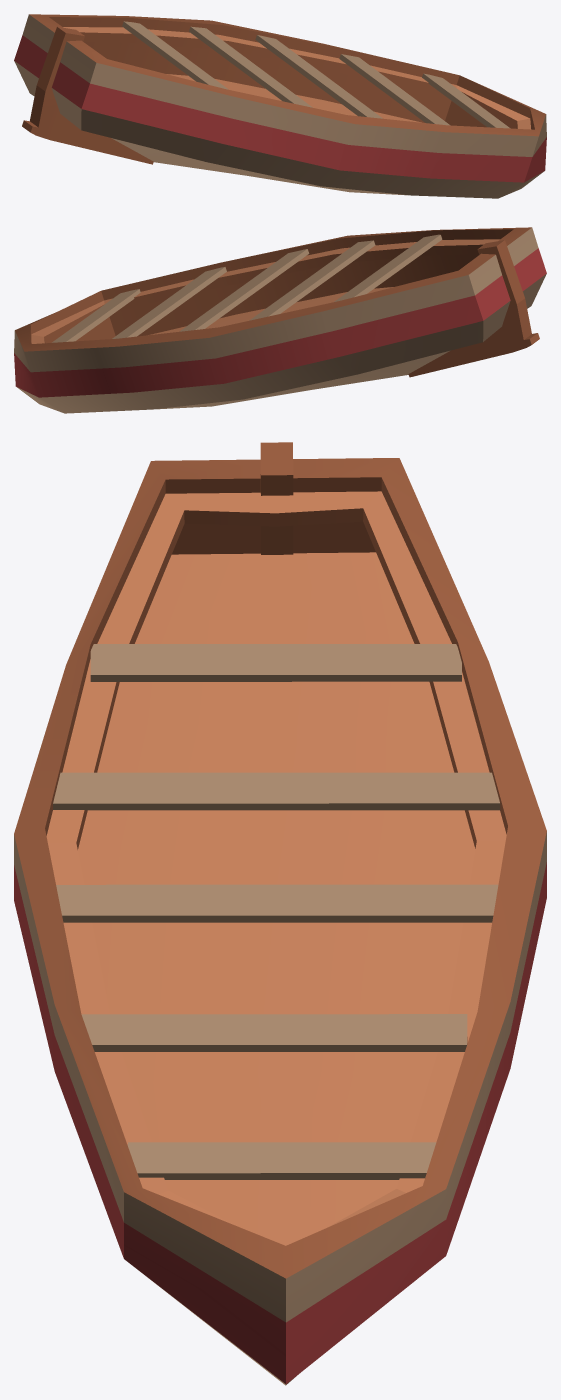
File: cozy_lake_boat.glb
3 views of the same model, one above another, from view 1: azimuth 30°, elevation 25°; view 2: azimuth 150°, elevation 25°; view 3: azimuth 270°, elevation 25° (orthographic). The views are drawn at different scales.
Parts seen in each view (by area): view 1: Boat_Sand_0, Boat_Wood_0, Boat_Metal_0, Boat_Rock_0; view 2: Boat_Sand_0, Boat_Wood_0, Boat_Metal_0, Boat_Rock_0; view 3: Boat_Rock_0, Boat_Sand_0, Boat_Wood_0, Boat_Metal_0.
Boxes of the visible parts, x1,y1,x2,y2 form: Boat_Sand_0: (14,14,546,198); Boat_Wood_0: (22,14,545,164); Boat_Metal_0: (14,35,546,182); Boat_Rock_0: (63,27,531,129); Boat_Sand_0: (14,227,546,413); Boat_Wood_0: (15,227,539,377); Boat_Metal_0: (14,248,546,397); Boat_Rock_0: (31,239,499,343); Boat_Rock_0: (46,491,506,1245); Boat_Sand_0: (14,644,546,1385); Boat_Wood_0: (14,442,546,1278); Boat_Metal_0: (14,862,546,1383).
Bounding box in the file's own units: 59.06 × 29.49 × 27.57.
